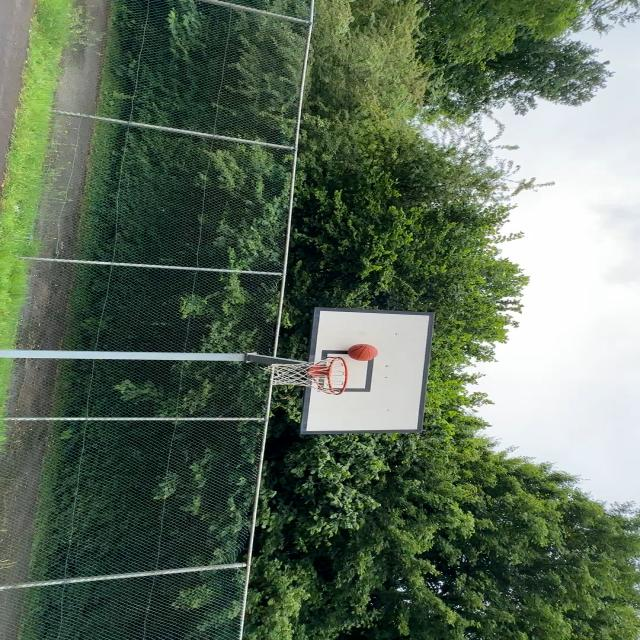rebound_hit: (346, 342, 378, 362)
